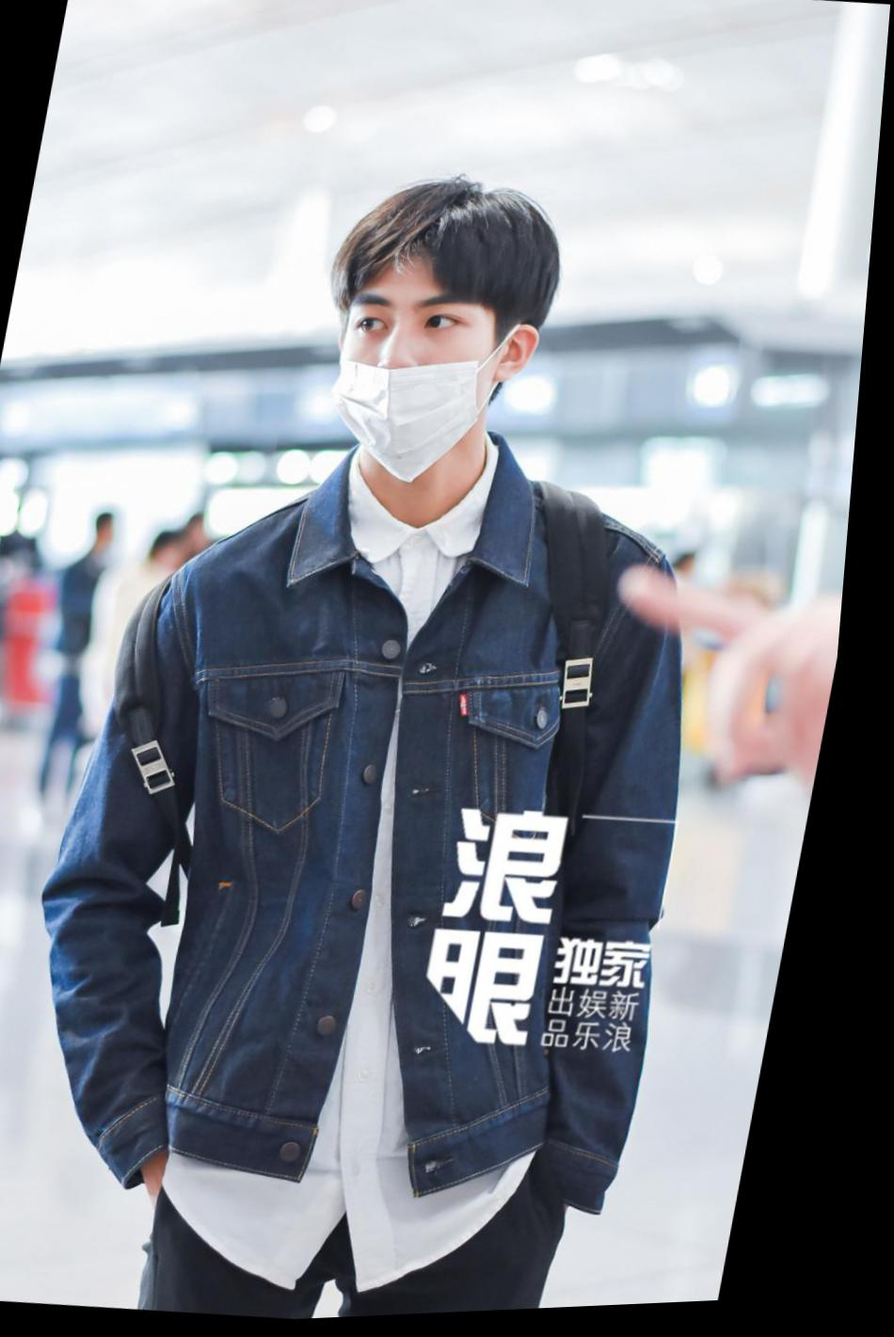WRONG: (325, 265, 519, 493)
